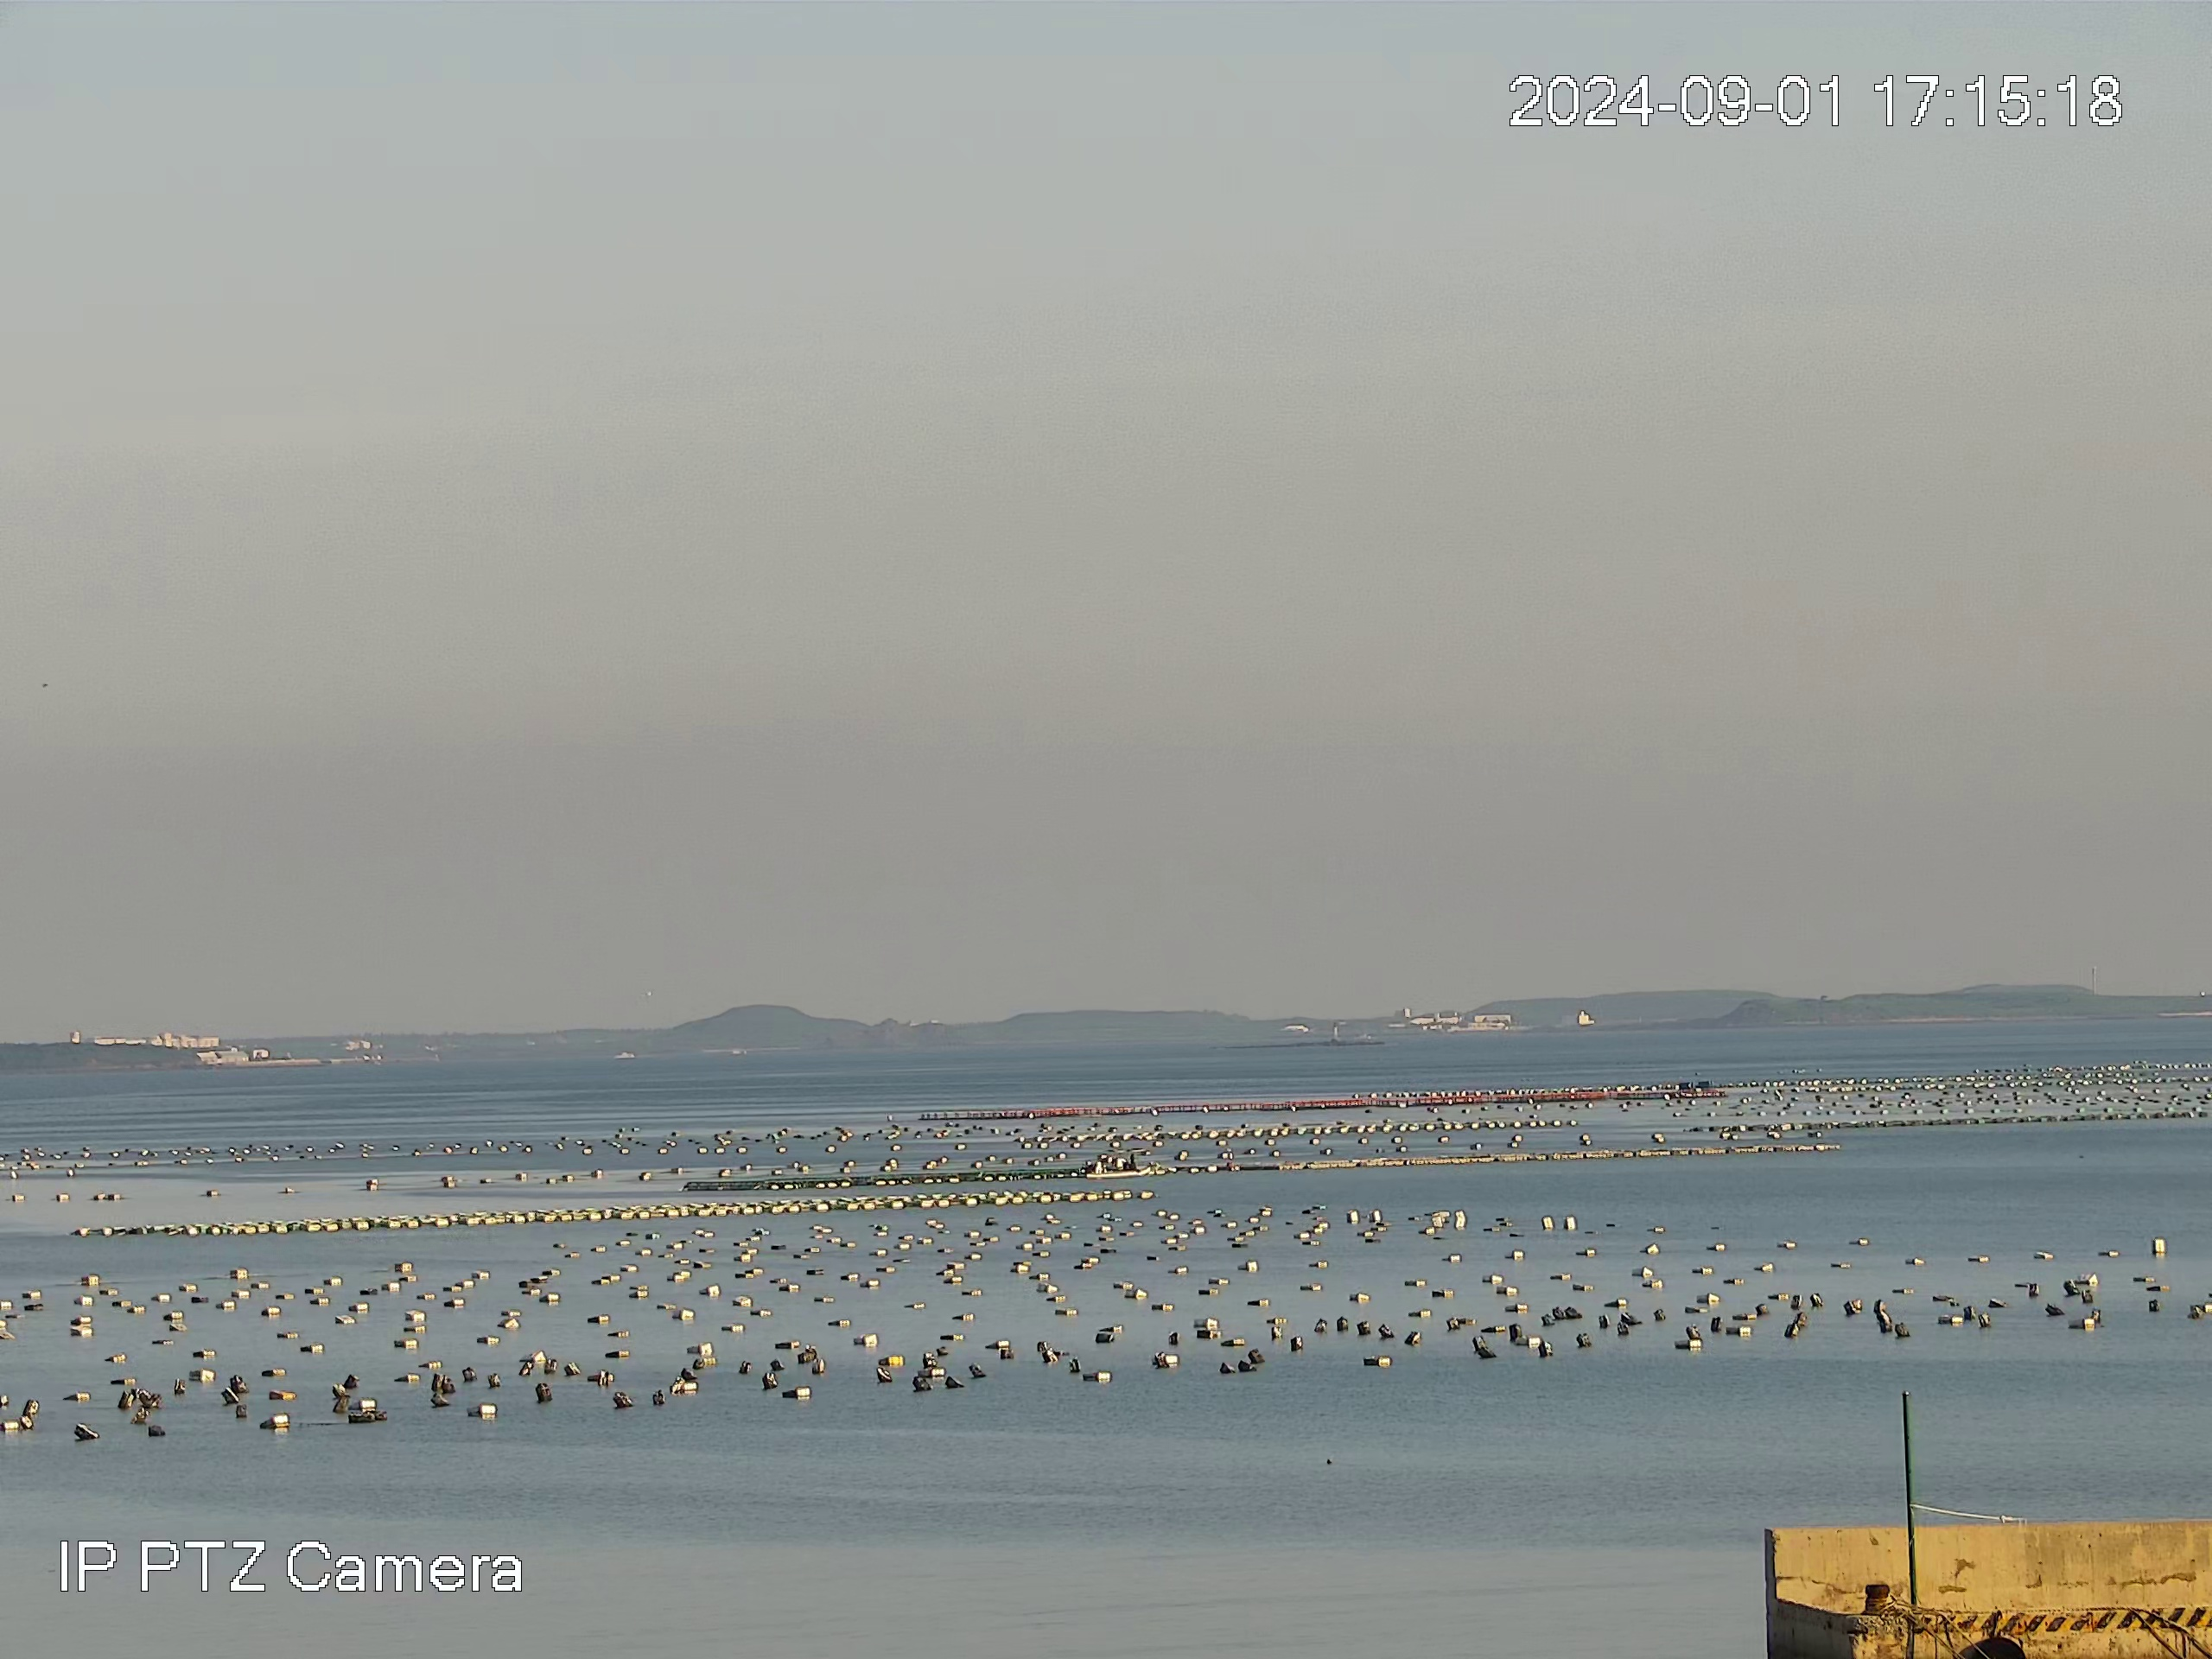boat: (1087, 1148, 1153, 1175)
